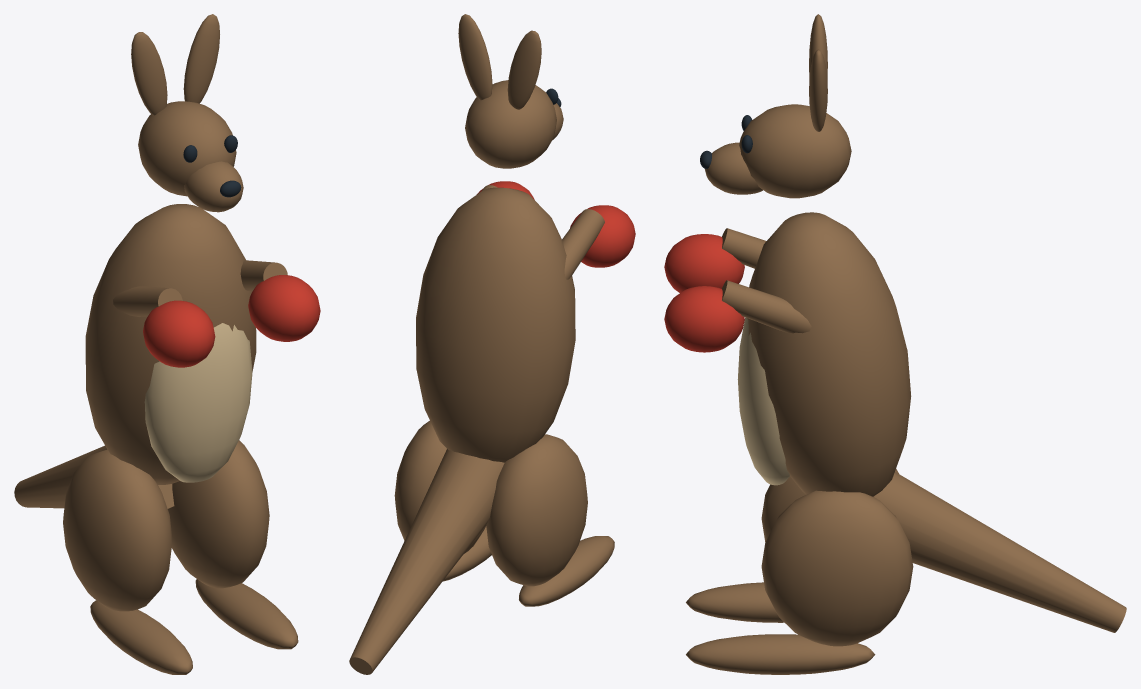
Rendered from kangaroo-lod0.glb.
3 renders of one model, left to right at view 1: azimuth 30°, elevation 25°; view 2: azimuth 150°, elevation 25°; view 3: azimuth 270°, elevation 25°, orthographic. The views are drawn at different scales.
Visible parts, largest first — view 1: thigh (×2), body, belly, foot (×2), glove (×2), head, ear (×2), tail, arm (×2), snout; view 2: body, thigh (×2), tail, head, ear (×2), foot (×2), glove, arm; view 3: body, thigh (×2), tail, foot (×2), head, glove (×2), belly, arm (×2), ear (×2), snout.
Part boxes in pixels (bbox=[...]): thigh (×2): bbox=[63, 440, 269, 611]; body: bbox=[85, 204, 256, 484]; belly: bbox=[144, 323, 252, 482]; foot (×2): bbox=[90, 579, 298, 674]; glove (×2): bbox=[143, 275, 320, 367]; head: bbox=[138, 101, 236, 196]; ear (×2): bbox=[131, 14, 219, 115]; tail: bbox=[14, 445, 174, 508]; arm (×2): bbox=[113, 260, 287, 316]; snout: bbox=[184, 161, 243, 212]; body: bbox=[416, 187, 575, 462]; thigh (×2): bbox=[394, 420, 587, 586]; tail: bbox=[349, 449, 504, 674]; head: bbox=[465, 80, 556, 168]; ear (×2): bbox=[458, 14, 541, 109]; foot (×2): bbox=[443, 526, 614, 606]; glove: bbox=[570, 205, 635, 267]; arm: bbox=[562, 209, 604, 279]; body: bbox=[747, 212, 911, 496]; thigh (×2): bbox=[761, 469, 913, 646]; tail: bbox=[873, 472, 1126, 632]; foot (×2): bbox=[686, 582, 875, 674]; head: bbox=[739, 104, 851, 198]; glove (×2): bbox=[664, 234, 744, 352]; belly: bbox=[737, 317, 789, 485]; arm (×2): bbox=[722, 228, 811, 333]; ear (×2): bbox=[809, 14, 827, 131]; snout: bbox=[705, 142, 762, 194].
Size of the model in its own units: 0.44 by 1.43 by 0.9749.
